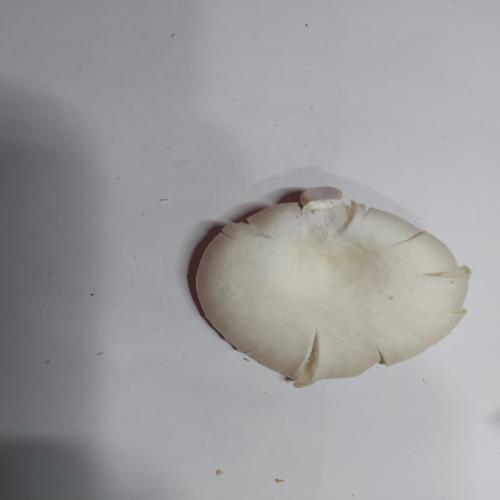Oyster Mushroom: (192, 185, 472, 388)
